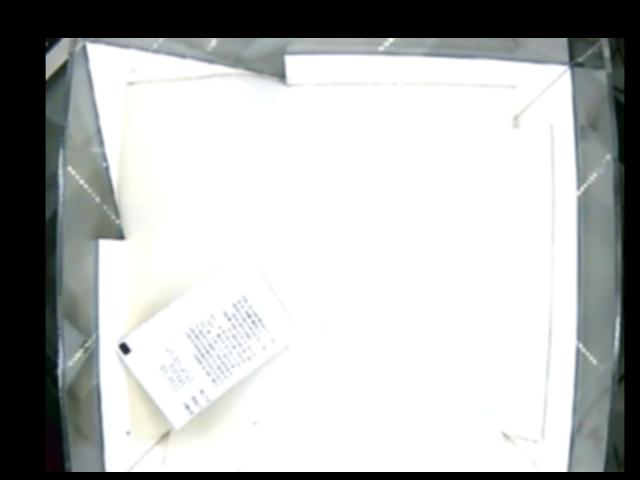Medicine: (116, 255, 299, 431)
